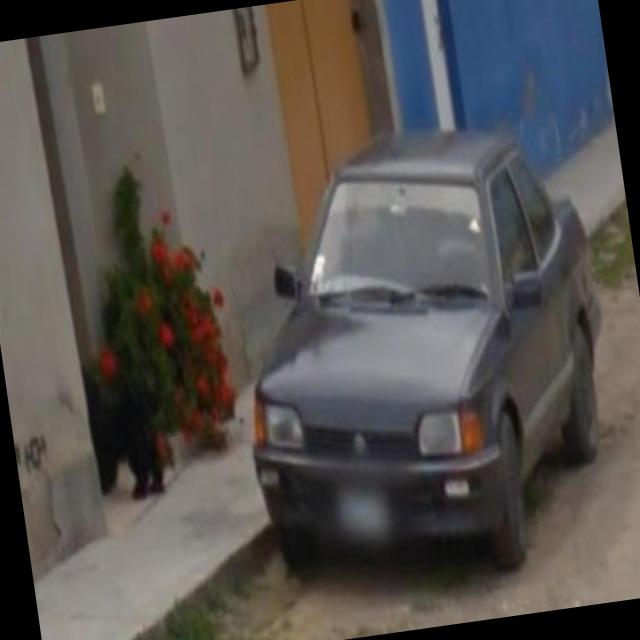car: (210, 106, 632, 598)
